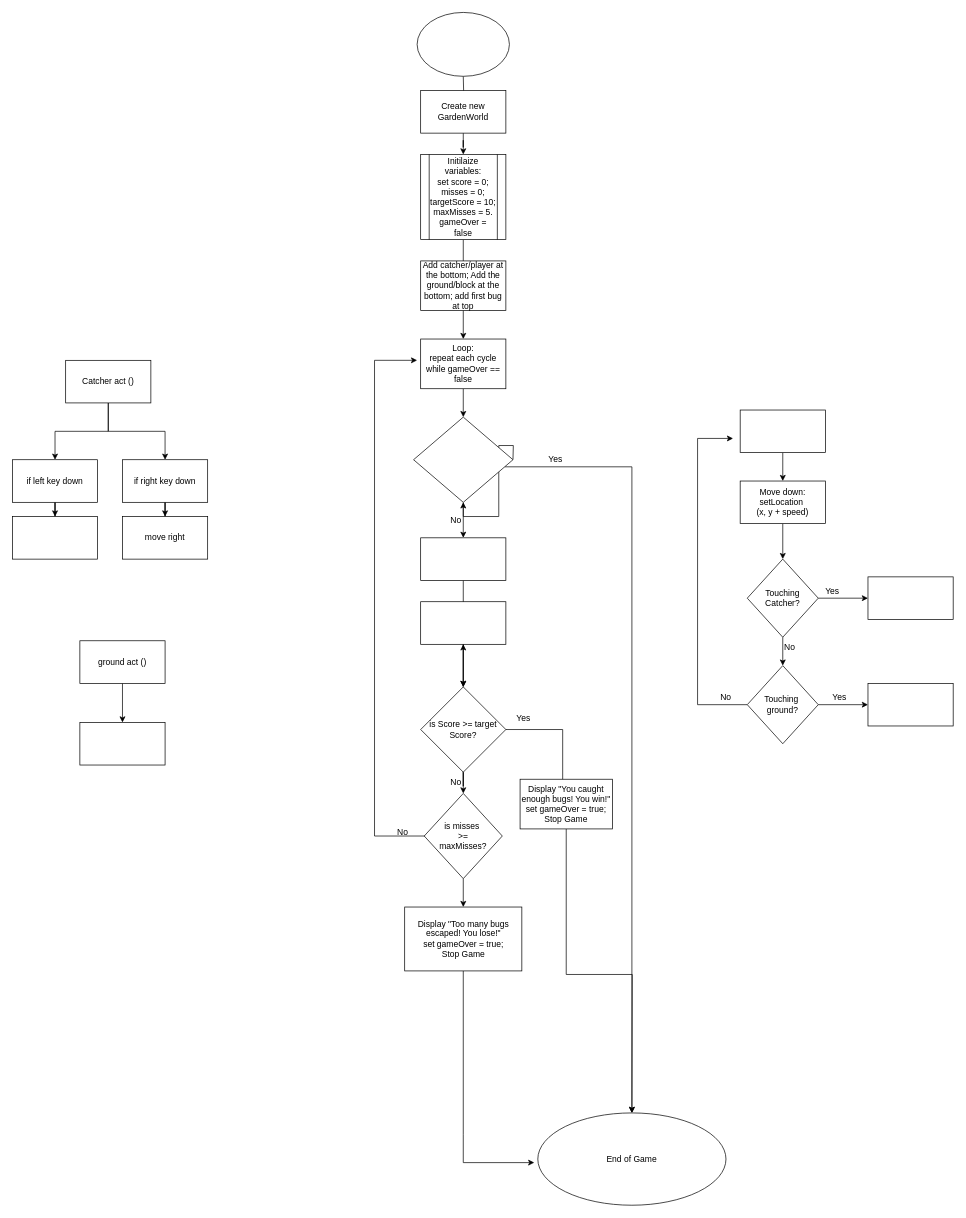
Some shapes in this 966 by 1218 pixel diagram are drawn without their labels. The shapes that lost their labels are listed below. From the top down, each one's centre as x and y in pixels, then its label:
At pixel 462 44: "Start".
At pixel 782 431: "Bug act()".
At pixel 463 459: "is gameOver == false ?".
At pixel 55 537: "move left".
At pixel 463 558: "add new bug at top (random x)".
At pixel 910 597: "Call world.addScore(1) remove this bug".
At pixel 463 622: "update score and misses in text".
At pixel 910 704: "call world.addMiss() remove this bug".
At pixel 122 743: "no movement; used for bug collecting".
